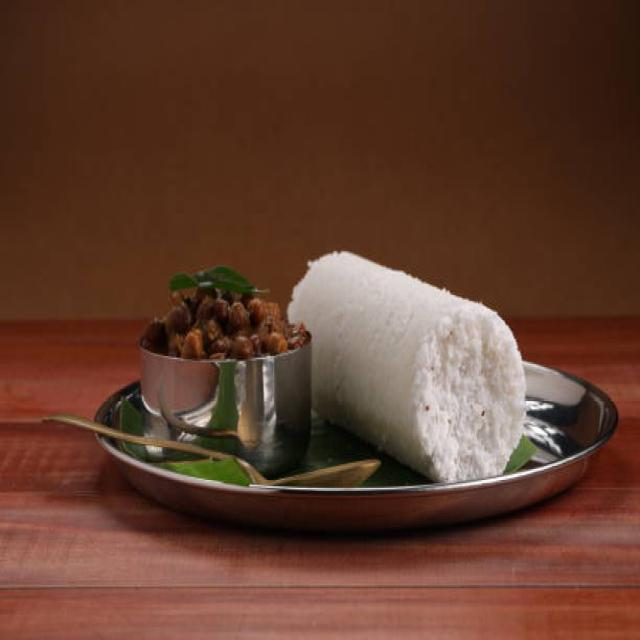CURRY: (143, 280, 313, 359)
PUTTU: (286, 238, 529, 485)
